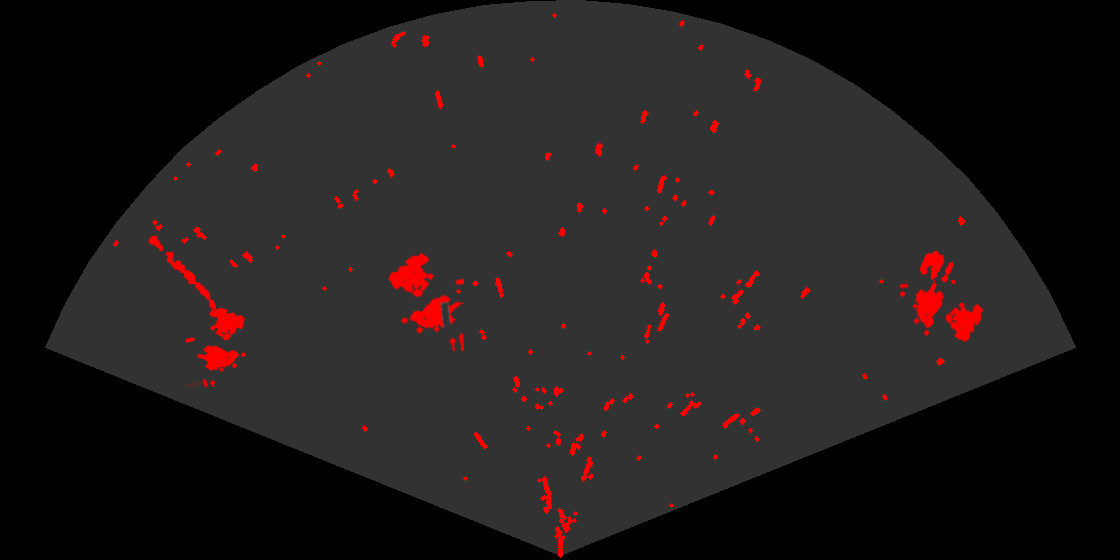ball: (918, 249, 955, 284)
cage: (387, 251, 464, 351), (900, 280, 986, 344), (186, 306, 248, 387)
chain: (147, 234, 218, 311)
